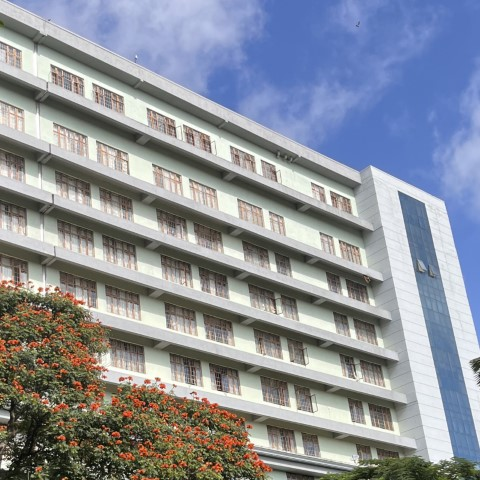Central Block: (2, 1, 480, 480)
